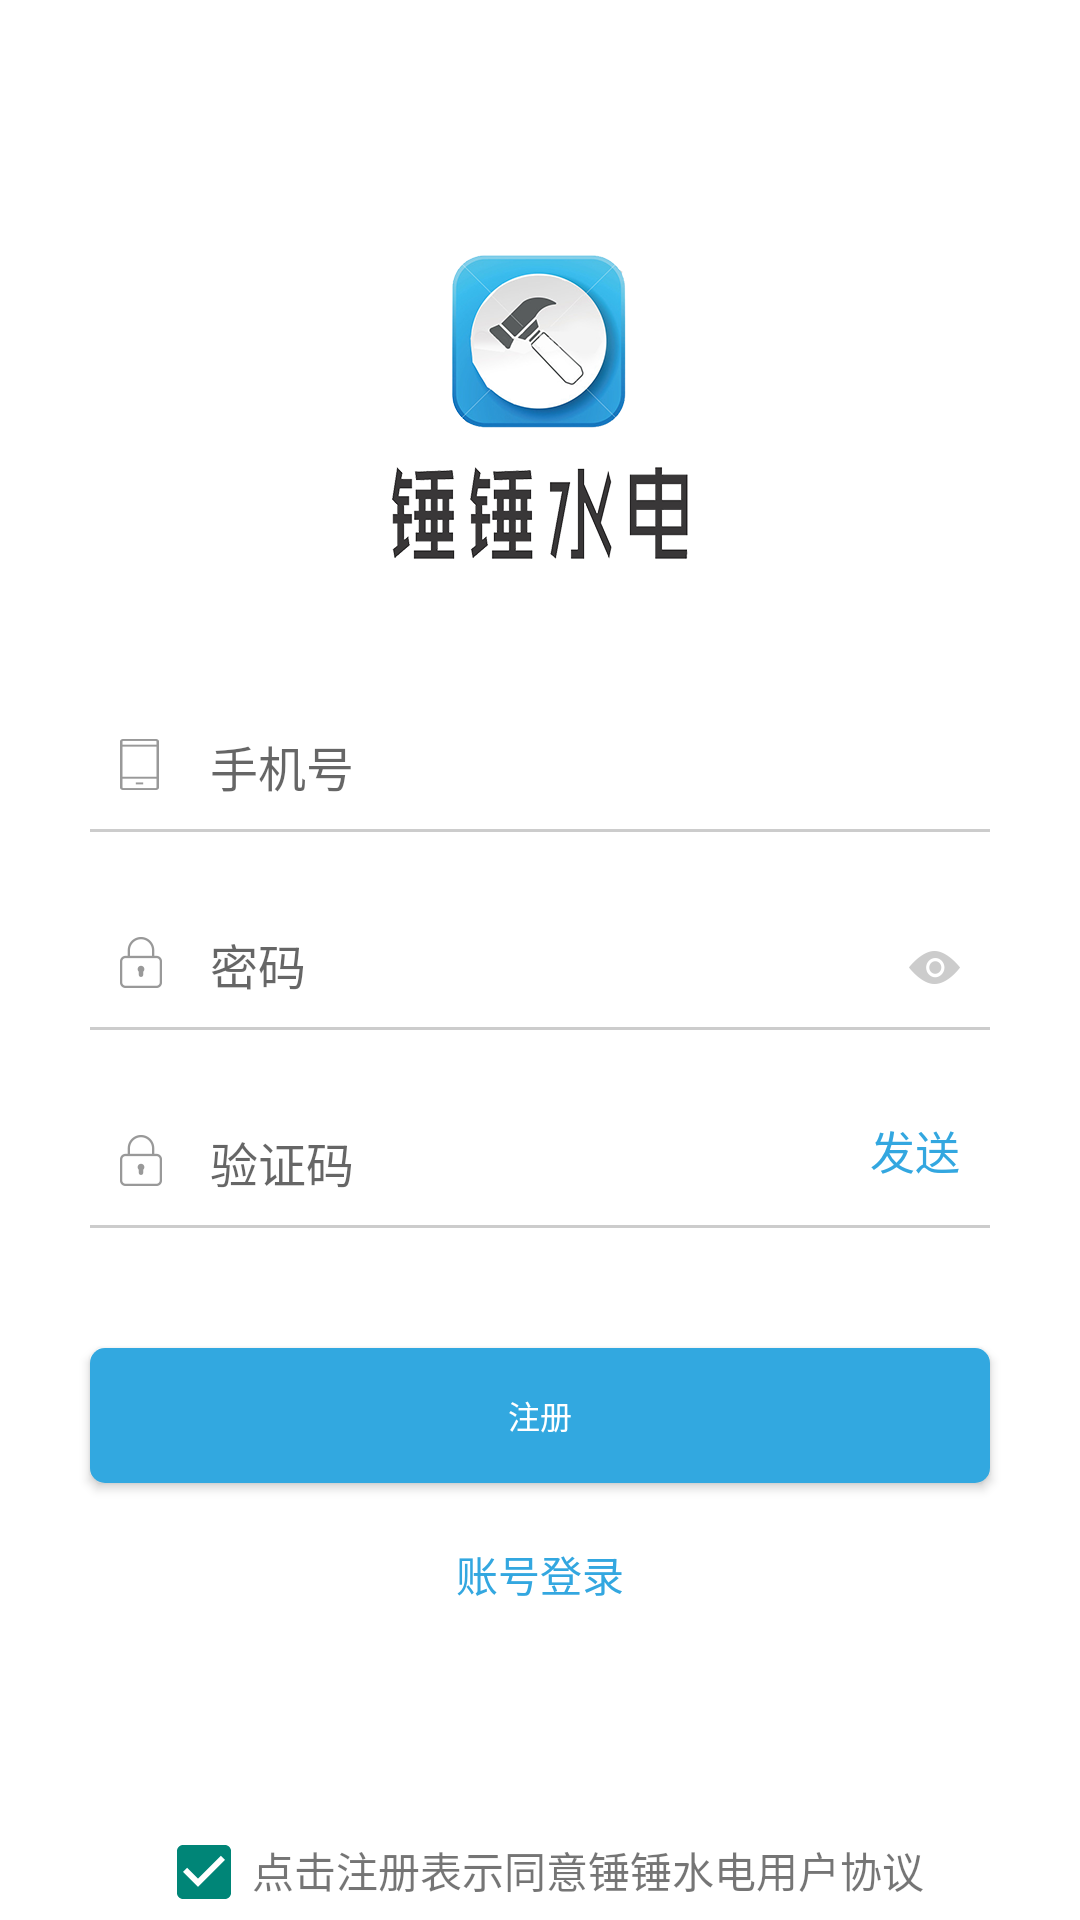

Screen size 1080 × 1920. Icon name, then its box in pixels as (x1, y1, x2, y2):
password: (120, 937, 162, 988), (120, 1135, 162, 1186)
phone: (120, 739, 159, 790)
